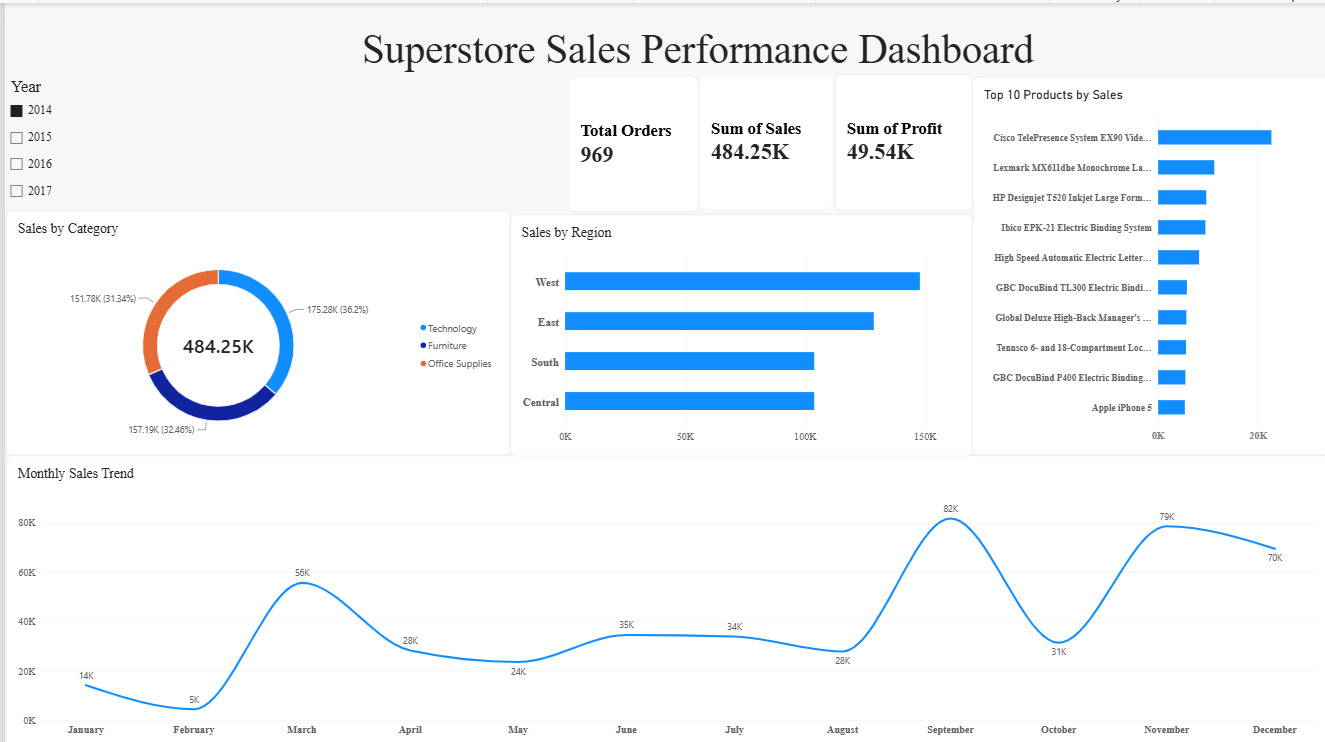

What the dashboard file says about the page in this screenshot:
{"tool":"powerbi","page":{"name":"Page 1","canvas":[1920,1080],"ordinal":0},"visuals":[{"type":"cardVisual","fields":{"Data":["Sum(Sample - Superstore.Sales)"]},"box":[1003.5,103,197.8,197.8],"z":0},{"type":"cardVisual","fields":{"Data":["Sum(Sample - Superstore.Profit)"]},"box":[1201.3,103,199.9,197.8],"z":1000},{"type":"clusteredBarChart","title":"Sales by Category","fields":{"Category":["Sample - Superstore.Category"],"Y":["Sum(Sample - Superstore.Sales)"]},"box":[2.1,300.8,729.4,354.4],"z":2000},{"type":"lineChart","title":"Monthly Sales Trend","fields":{"Category":["Sample - Superstore.Order Date.Variation.Date Hierarchy.Month"],"Y":["Sum(Sample - Superstore.Sales)"]},"box":[1.8,655.1,1916.4,425.3],"z":3000},{"type":"clusteredBarChart","title":"Sales by Region","fields":{"Category":["Sample - Superstore.Region"],"Y":["Sum(Sample - Superstore.Sales)"]},"box":[731.5,305,669.7,350.3],"z":4000},{"type":"textbox","box":[307.7,33.8,1390.8,92.3],"z":5000},{"type":"slicer","fields":{"Values":["Sample - Superstore.Order Date.Variation.Date Hierarchy.Year"]},"box":[0,107.1,401.8,193.7],"z":6000},{"type":"clusteredBarChart","title":"Top 10 Products by Sales","fields":{"Category":["Sample - Superstore.Product Name"],"Y":["Sum(Sample - Superstore.Sales)"]},"box":[1401.2,107.1,517.2,548.1],"z":7000},{"type":"cardVisual","fields":{"Data":["Count(Sample - Superstore.Order ID)"]},"box":[815.5,107,188.4,196.9],"z":8000}]}

Visuals, with their boxes in screenshot pixels (x1, y1, x2, y2), scaled from the page's 1920x1080 canvas onto the 1325x742 screenshot:
cardVisual - Sum(Sample - Superstore.Sales): l=693, t=71, r=829, b=207
cardVisual - Sum(Sample - Superstore.Profit): l=829, t=71, r=967, b=207
"Sales by Category" clusteredBarChart: l=1, t=207, r=505, b=450
"Monthly Sales Trend" lineChart: l=1, t=450, r=1324, b=741
"Sales by Region" clusteredBarChart: l=505, t=210, r=967, b=450
textbox: l=212, t=23, r=1172, b=87
slicer - Sample - Superstore.Order Date.Variation.Date Hierarchy.Year: l=0, t=74, r=277, b=207
"Top 10 Products by Sales" clusteredBarChart: l=967, t=74, r=1324, b=450
cardVisual - Count(Sample - Superstore.Order ID): l=563, t=74, r=693, b=209
